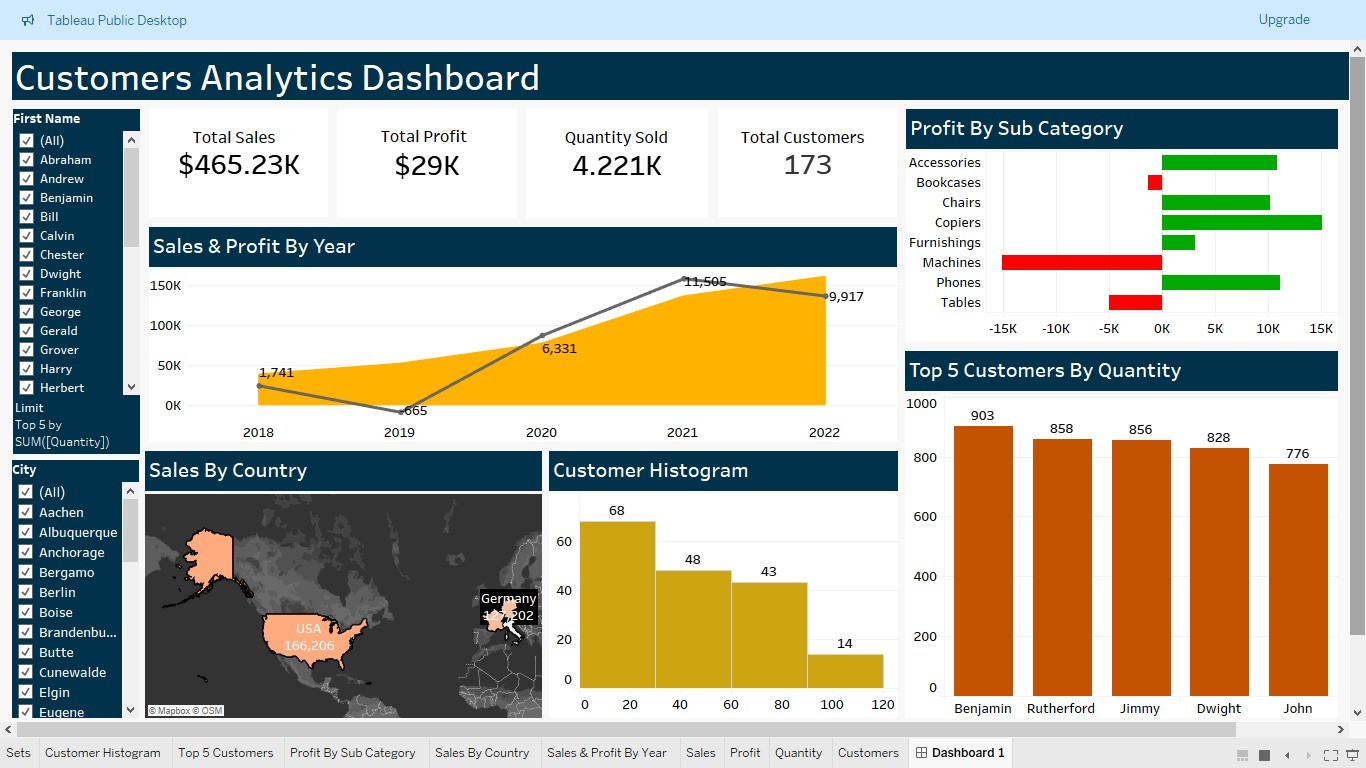

The page's visual inventory and layout, read from the dashboard file:
{"tool":"tableau","page":{"name":"Dashboard 1","canvas":[1455,762],"ordinal":0},"visuals":[{"type":"title","box":[8,8,1439,56]},{"type":"filter","title":"Top 5 Customers","param":"[federated.1tb4y9m1dqj1gz1gs0qvf0u6i3y8].[none:First_Name:nk]","box":[13,69,127,345]},{"type":"worksheet","title":"Sales","mark":"Automatic","box":[149,69,179,108]},{"type":"worksheet","title":"Profit","mark":"Automatic","box":[337,69,180,109]},{"type":"worksheet","title":"Quantity","mark":"Automatic","box":[526,69,182,109]},{"type":"worksheet","title":"Customers","mark":"Automatic","box":[718,69,179,108]},{"type":"worksheet","title":"Profit By Sub Category","mark":"Bar","rows":["Sub_Category"],"cols":["Profit"],"box":[906,69,432,233]},{"type":"text","box":[378,81,110,30]},{"type":"text","box":[562,81,112,31]},{"type":"text","box":[190,82,110,30]},{"type":"text","box":[738,82,133,30]},{"type":"worksheet","title":"Sales & Profit By Year","mark":"Area","rows":["Sales","Profit"],"cols":["Order_Date"],"box":[149,187,748,215]},{"type":"worksheet","title":"Top 5 Customers","mark":"Automatic","rows":["Quantity"],"cols":["First_Name"],"box":[905,311,433,367]},{"type":"worksheet","title":"Sales By Country","mark":"Automatic","box":[145,411,397,267]},{"type":"worksheet","title":"Customer Histogram","mark":"Bar","rows":["Customers (1).csv_2AC6FA4AEB5D41FB8CF8C978237232E1"],"cols":["Score (bin)"],"box":[549,411,349,267]},{"type":"filter","title":"Sales By Country","param":"[federated.1tb4y9m1dqj1gz1gs0qvf0u6i3y8].[none:City:nk]","box":[12,420,127,258]}]}

Visuals, with their boxes on the page's 1455x762 design canvas (x1, y1, x2, y2). These are canvas units, not pixel positions in the 1366x768 screenshot, which may show the page scaled, cropped or inside an application window:
title: left=8, top=8, right=1447, bottom=64
"Top 5 Customers" filter: left=13, top=69, right=140, bottom=414
"Sales" worksheet: left=149, top=69, right=328, bottom=177
"Profit" worksheet: left=337, top=69, right=517, bottom=178
"Quantity" worksheet: left=526, top=69, right=708, bottom=178
"Customers" worksheet: left=718, top=69, right=897, bottom=177
"Profit By Sub Category" worksheet (Bar marks): left=906, top=69, right=1338, bottom=302
text: left=378, top=81, right=488, bottom=111
text: left=562, top=81, right=674, bottom=112
text: left=190, top=82, right=300, bottom=112
text: left=738, top=82, right=871, bottom=112
"Sales & Profit By Year" worksheet (Area marks): left=149, top=187, right=897, bottom=402
"Top 5 Customers" worksheet: left=905, top=311, right=1338, bottom=678
"Sales By Country" worksheet: left=145, top=411, right=542, bottom=678
"Customer Histogram" worksheet (Bar marks): left=549, top=411, right=898, bottom=678
"Sales By Country" filter: left=12, top=420, right=139, bottom=678
